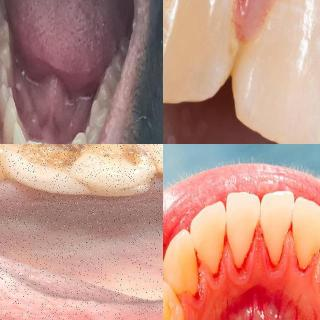Gum Swelling: (240, 226, 289, 284), (184, 264, 221, 310), (218, 242, 242, 289)
cavities: (10, 144, 154, 200)
maligned: (255, 187, 289, 260), (228, 193, 258, 260)
